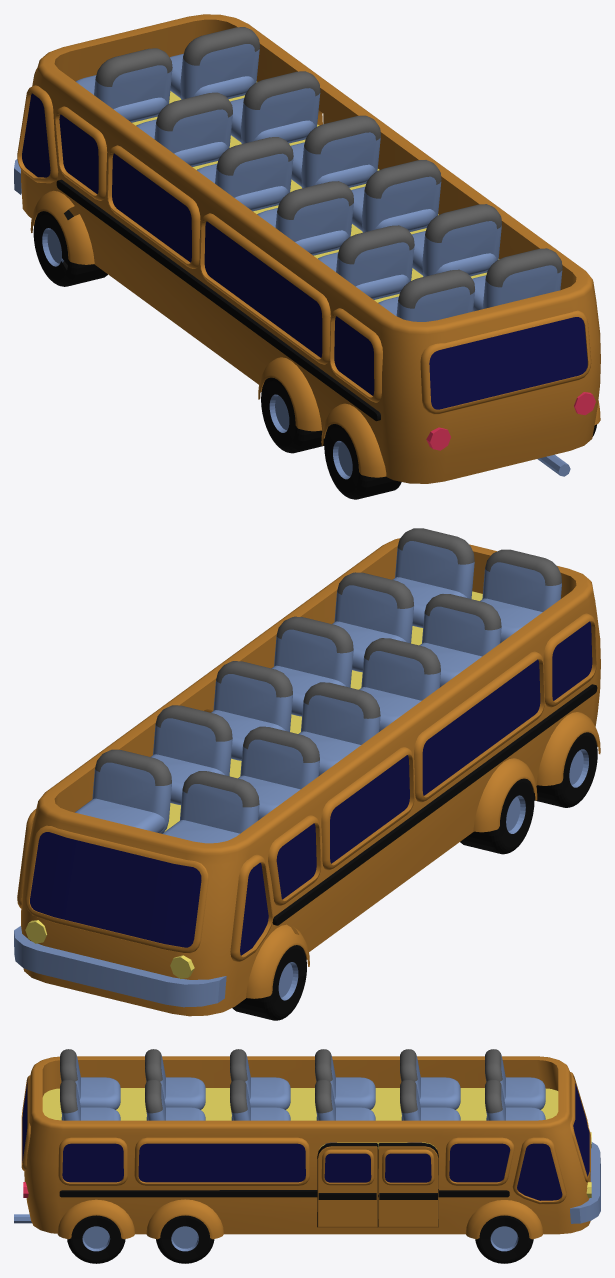
The model's file is bus_long.fbx.
3 views of the same model, one above another, from view 1: azimuth 30°, elevation 25°; view 2: azimuth 150°, elevation 25°; view 3: azimuth 270°, elevation 25° (orthographic). The views are drawn at different scales.
Parts seen in each view (by area): view 1: Bus_Body.002, Cube.017, Bus_Body.003; view 2: Bus_Body.002, Cube.017, Bus_Body.003; view 3: Bus_Body.002, Cube.017, Bus_Body.003, Bus_Door_R.002, Bus_Door_L.002.
Boxes of the visible parts, bbox=[...] form: Bus_Body.002: bbox=[14, 14, 600, 483]; Cube.017: bbox=[75, 27, 562, 321]; Bus_Body.003: bbox=[33, 209, 600, 499]; Bus_Body.002: bbox=[14, 538, 600, 1016]; Cube.017: bbox=[75, 528, 561, 843]; Bus_Body.003: bbox=[232, 712, 600, 1020]; Bus_Body.002: bbox=[14, 1056, 600, 1239]; Cube.017: bbox=[60, 1049, 545, 1144]; Bus_Body.003: bbox=[57, 1199, 533, 1263]; Bus_Door_R.002: bbox=[378, 1143, 438, 1227]; Bus_Door_L.002: bbox=[317, 1143, 377, 1227].
Bounding box in the file's own units: 324 × 283 × 979.
